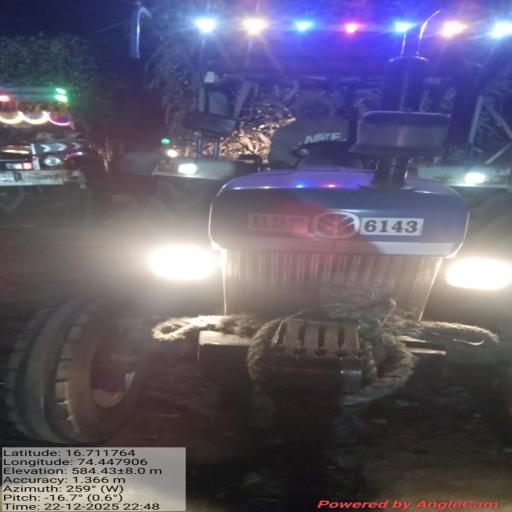number_plate: (249, 214, 308, 233), (360, 218, 423, 235)
